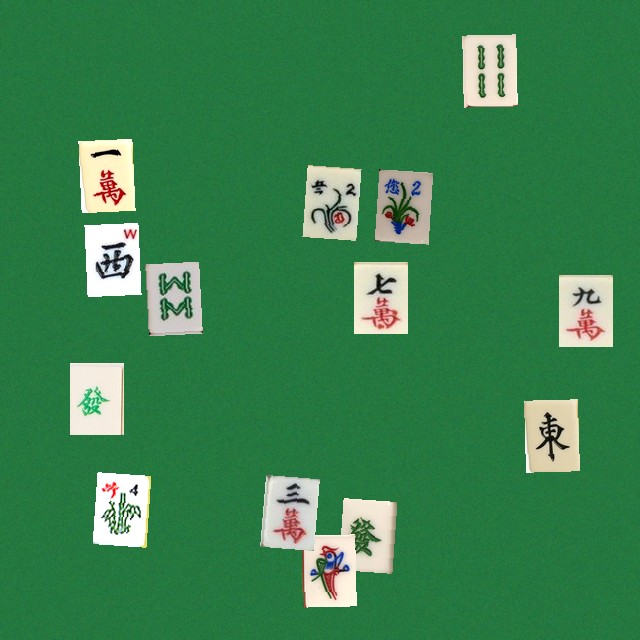tile: (92, 472, 146, 544), (69, 362, 123, 434), (78, 138, 132, 210), (338, 498, 392, 570), (145, 261, 199, 333), (462, 34, 516, 106), (353, 261, 407, 333), (374, 169, 428, 241), (301, 534, 355, 606), (302, 165, 356, 237), (260, 474, 314, 546), (84, 222, 138, 294), (524, 399, 578, 471), (558, 274, 612, 346)
